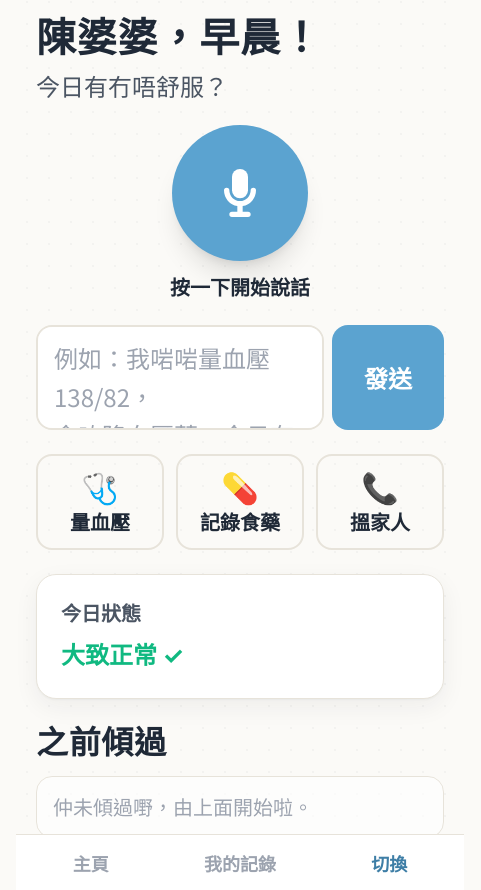
Test case: ElderHome TTS autoplay exactly once › speak 失敗（unsupported）時 answer 仍顯示、不 crash
This screenshot has width=481, height=890.
Step 1. Type "我胸口有啲唔舒服" into the text box with test id "text-input" → [180, 378], box [36,325,324,430]
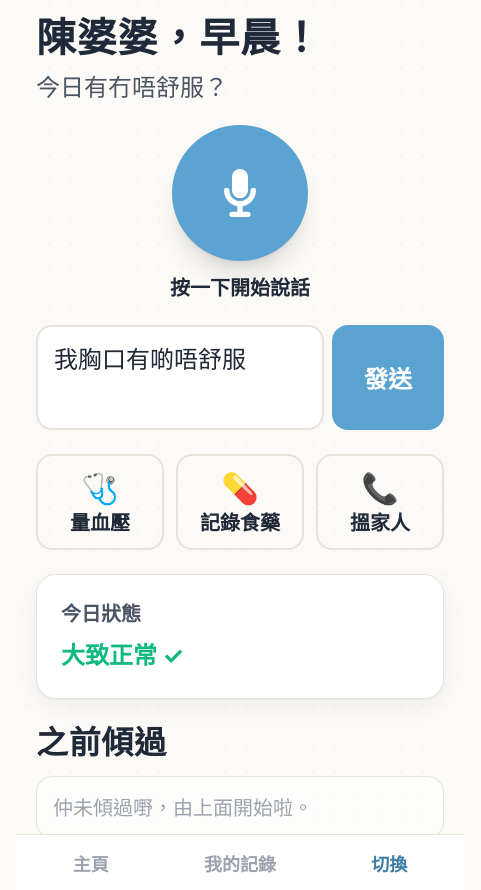
Step 2. Click the button with test id "send-button" → [388, 378], box [332,325,444,430]
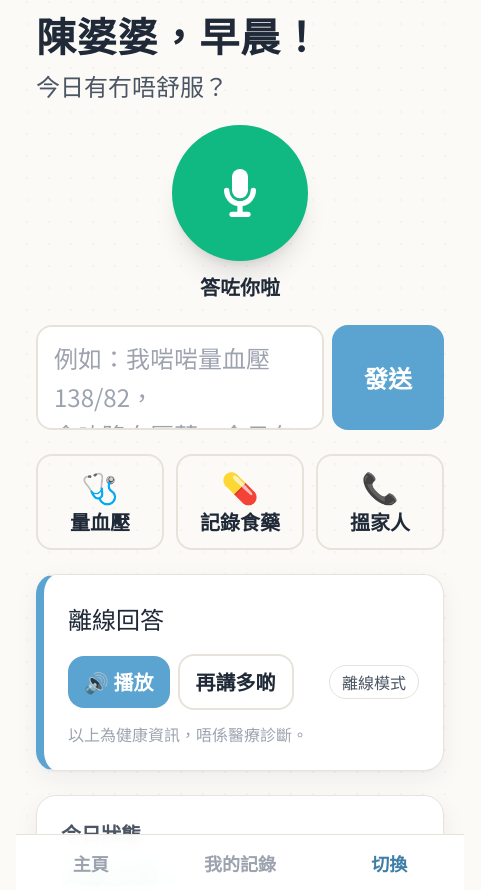
Check: the element with test id "answer-bubble" shows "離線回答", box [68,601,164,636]
